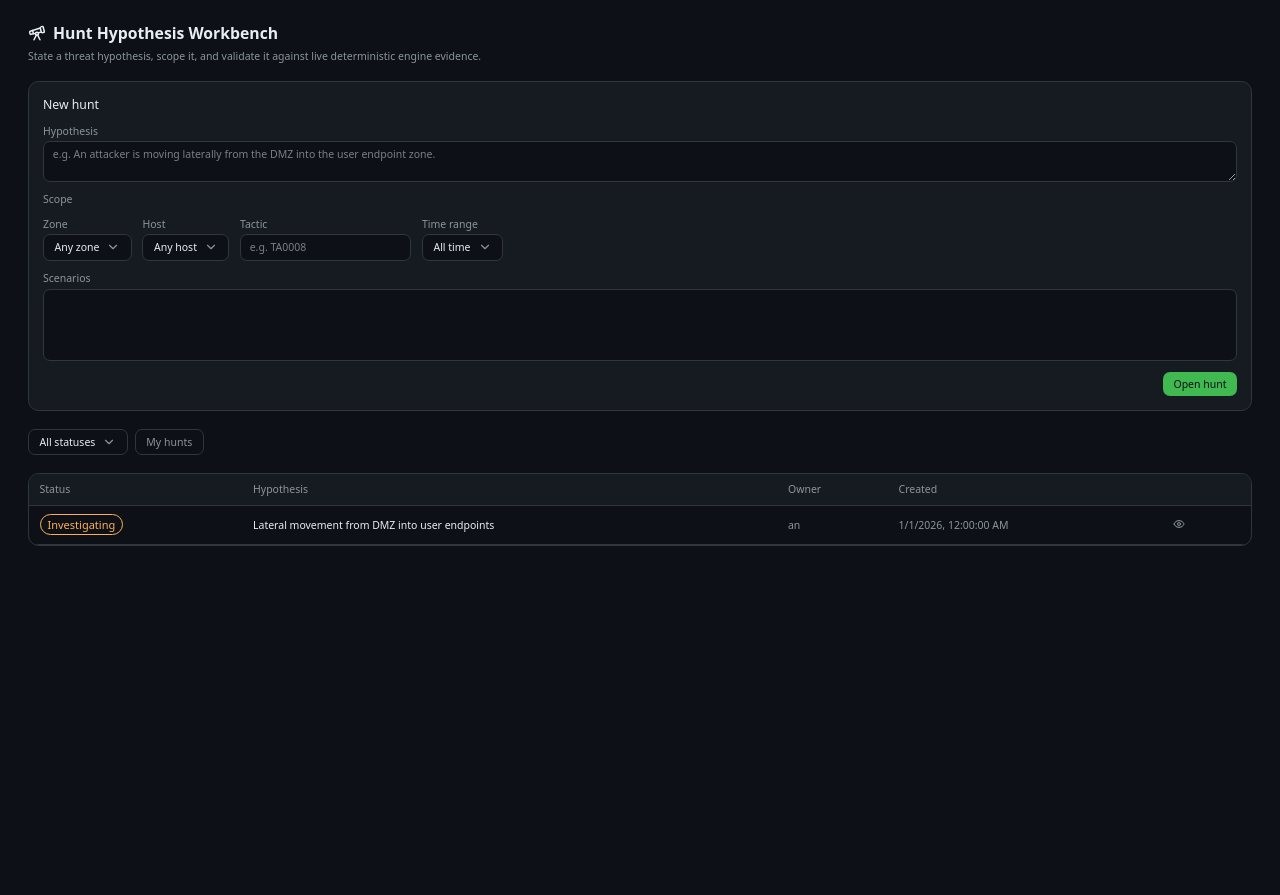
Hunts page › opens detail and renders live evidence proximity + honesty banner
Expected: the text "Lateral movement from DMZ into user endpoints" is shown, [242, 506, 778, 544]
Click the button named "view hunt h1": click(1179, 524) [1166, 515, 1192, 534]
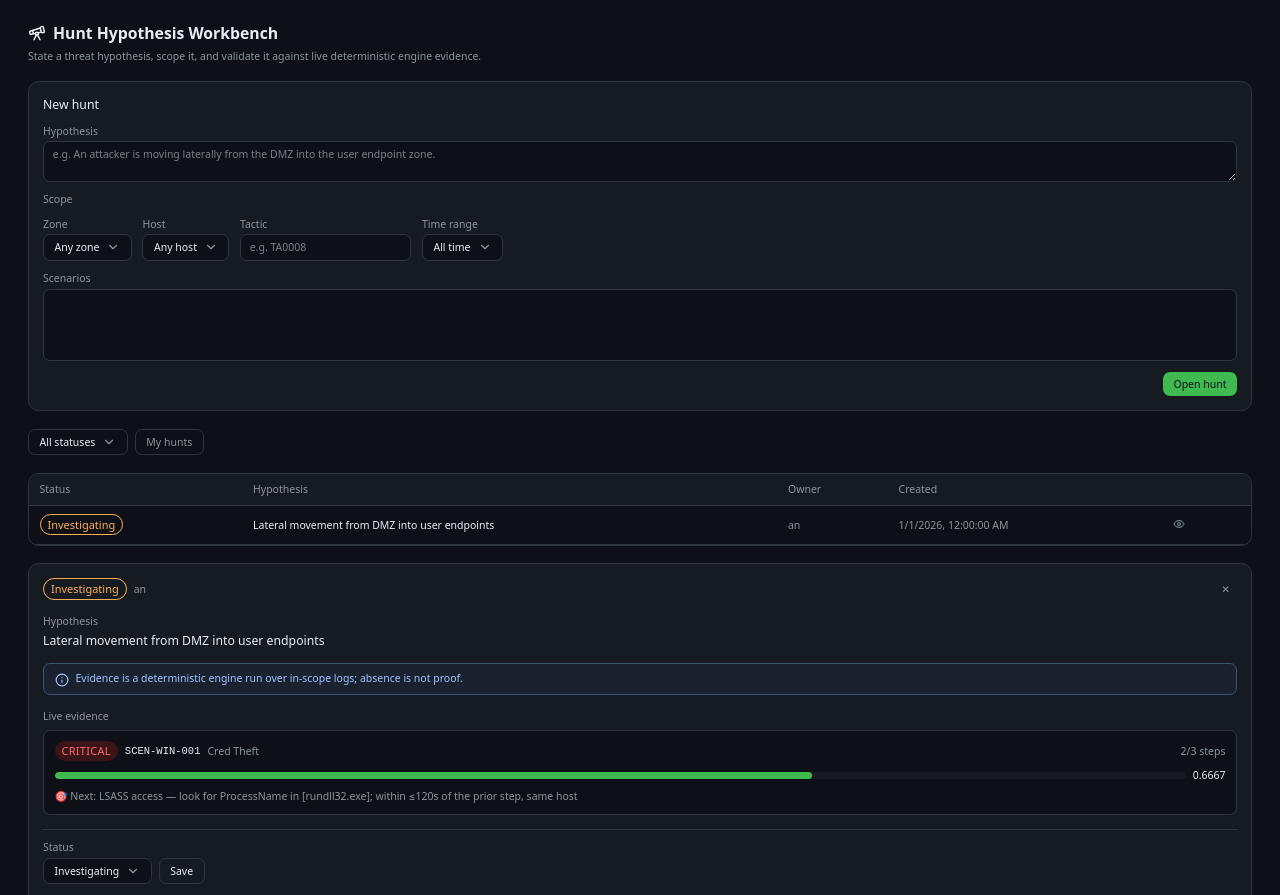
Expected: the text "deterministic engine run" is shown, [76, 671, 463, 685]
Expected: the text "0.6667" is shown, [1193, 768, 1226, 782]
Expected: the text "Next: LSASS access" is shown, [54, 789, 163, 803]
